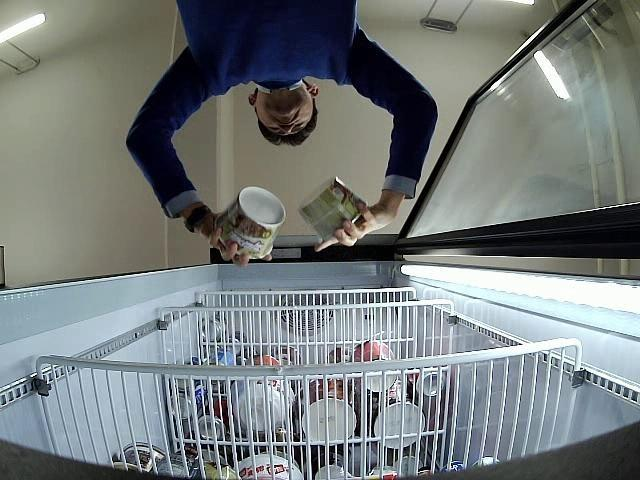03_chapagetti_L: (216, 186, 286, 259), (298, 177, 368, 245)
